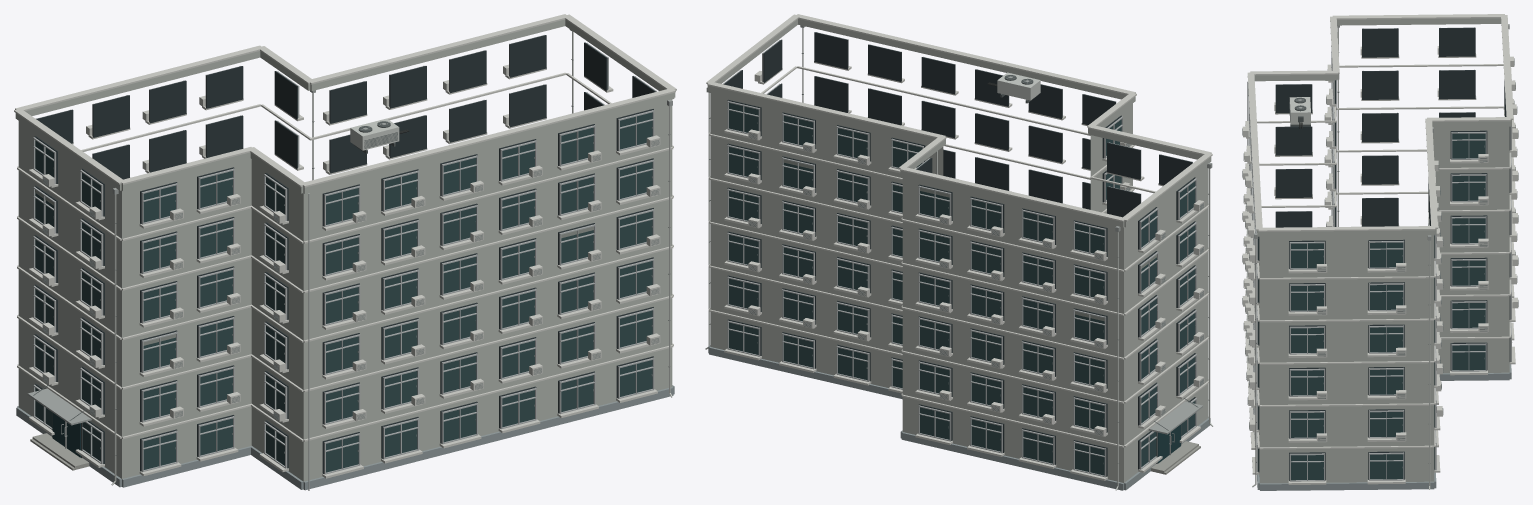
Rendered from osm_way_223859798.glb.
The picture shows the model from 3 angles, left to right: view 1: azimuth 30°, elevation 25°; view 2: azimuth 150°, elevation 25°; view 3: azimuth 270°, elevation 25°; orthographic projection. The views are drawn at different scales.
Visible parts, largest first — view 1: Architecture | 3, Windows and facade details | 3, Roof services | 3, EXTERIOR::osm_way_223859798::rainwater and roof service deta, EXTERIOR::osm_way_223859798::inferred entry doors canopy and; view 2: Architecture | 3, Windows and facade details | 3, Roof services | 3, EXTERIOR::osm_way_223859798::rainwater and roof service deta, EXTERIOR::osm_way_223859798::inferred entry doors canopy and; view 3: Architecture | 3, Windows and facade details | 3, Roof services | 3, EXTERIOR::osm_way_223859798::rainwater and roof service deta.
Part boxes in pixels (x1,y1,x2,y2): Architecture | 3: (15,19,675,490); Windows and facade details | 3: (29,35,660,490); Roof services | 3: (14,14,676,187); EXTERIOR::osm_way_223859798::rainwater and roof service deta: (111,29,672,485); EXTERIOR::osm_way_223859798::inferred entry doors canopy and: (27,385,91,470); Architecture | 3: (707,19,1211,490); Windows and facade details | 3: (723,32,1204,480); Roof services | 3: (706,14,1212,221); EXTERIOR::osm_way_223859798::rainwater and roof service deta: (705,25,1213,490); EXTERIOR::osm_way_223859798::inferred entry doors canopy and: (1148,398,1202,474); Architecture | 3: (1254,18,1511,490); Windows and facade details | 3: (1242,27,1518,484); Roof services | 3: (1247,14,1513,231); EXTERIOR::osm_way_223859798::rainwater and roof service deta: (1252,24,1509,489).
Bounding box in the file's own units: 36.53 × 20.58 × 18.93.
